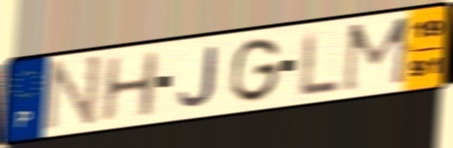G: (227, 35, 283, 105)
H: (98, 49, 161, 124)
J: (176, 43, 219, 110)
L: (299, 28, 341, 99)
M: (339, 13, 417, 96)
N: (41, 53, 105, 134)
